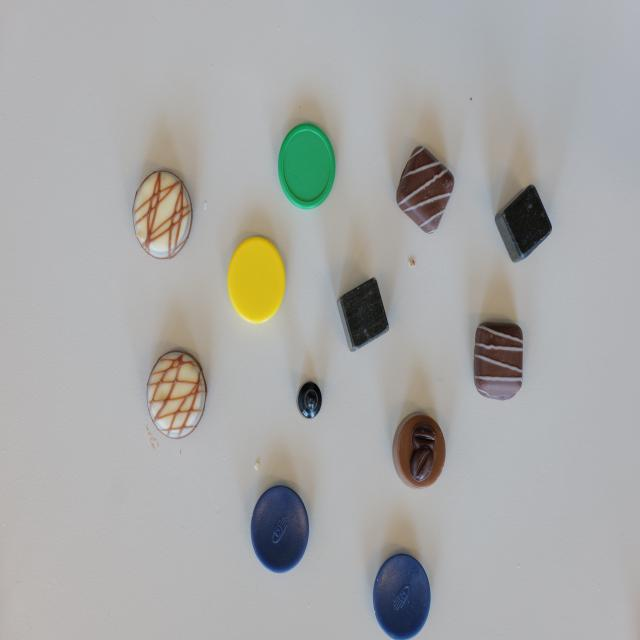Arabia: (146, 348, 209, 440), (132, 167, 193, 261), (392, 411, 448, 490)
Stracciatella: (397, 144, 455, 233), (474, 322, 523, 400)
